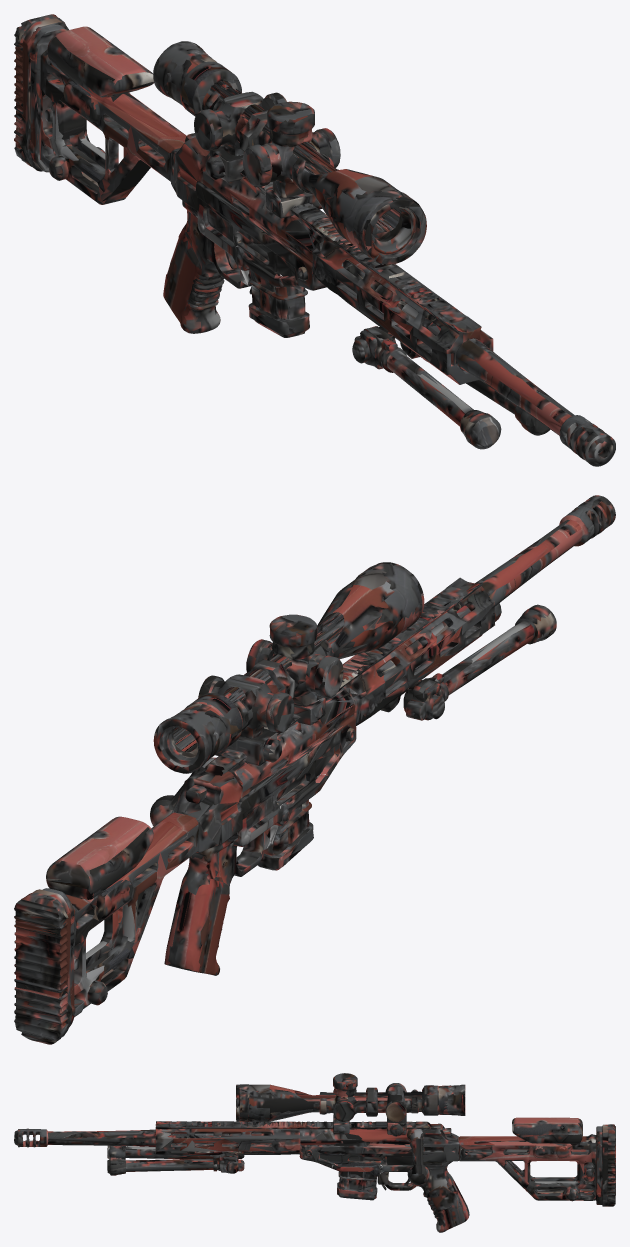
3 renders of one model, top to bottom at view 1: azimuth 30°, elevation 25°; view 2: azimuth 150°, elevation 25°; view 3: azimuth 270°, elevation 25°, orthographic. The views are drawn at different scales.
Visible parts, largest first — view 1: Body, Magazine; view 2: Body, Magazine; view 3: Body, Magazine, ChargingHandle.
Part boxes in pixels (left/top/right/bottom): Body: left=14, top=14, right=615, bottom=466; Magazine: left=234, top=246, right=309, bottom=337; Body: left=14, top=495, right=615, bottom=1044; Magazine: left=258, top=774, right=328, bottom=870; Body: left=14, top=1073, right=615, bottom=1232; Magazine: left=332, top=1164, right=383, bottom=1200; ChargingHandle: left=409, top=1146, right=427, bottom=1173.
Size of the model in its own units: 0.2163 by 0.5135 by 1.85.
